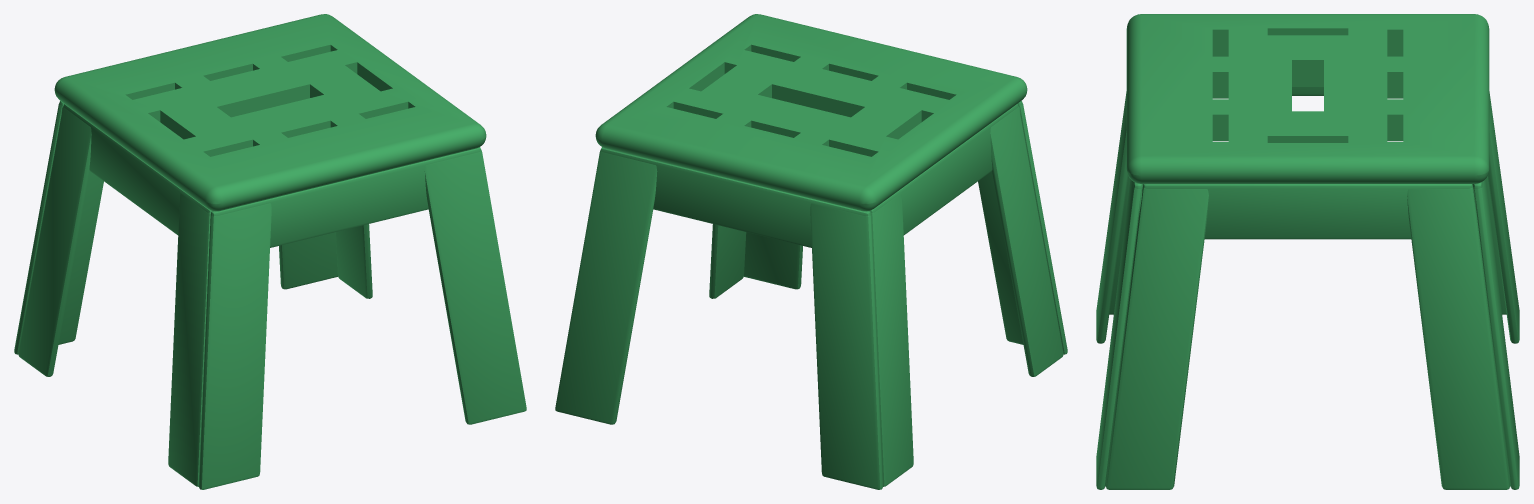
The model's file is ghe_nhua_xanh_la.glb.
3 renders of one model, left to right at view 1: azimuth 30°, elevation 25°; view 2: azimuth 150°, elevation 25°; view 3: azimuth 270°, elevation 25°, orthographic. The views are drawn at different scales.
Parts seen in each view (by area): view 1: ghe_nhua_xanh_la; view 2: ghe_nhua_xanh_la; view 3: ghe_nhua_xanh_la.
Boxes of the visible parts, x1,y1,x2,y2 form: ghe_nhua_xanh_la: (14, 14, 526, 489); ghe_nhua_xanh_la: (555, 14, 1067, 489); ghe_nhua_xanh_la: (1096, 14, 1519, 489).
Size of the model in its own units: 0.3153 by 0.26 by 0.3153.
